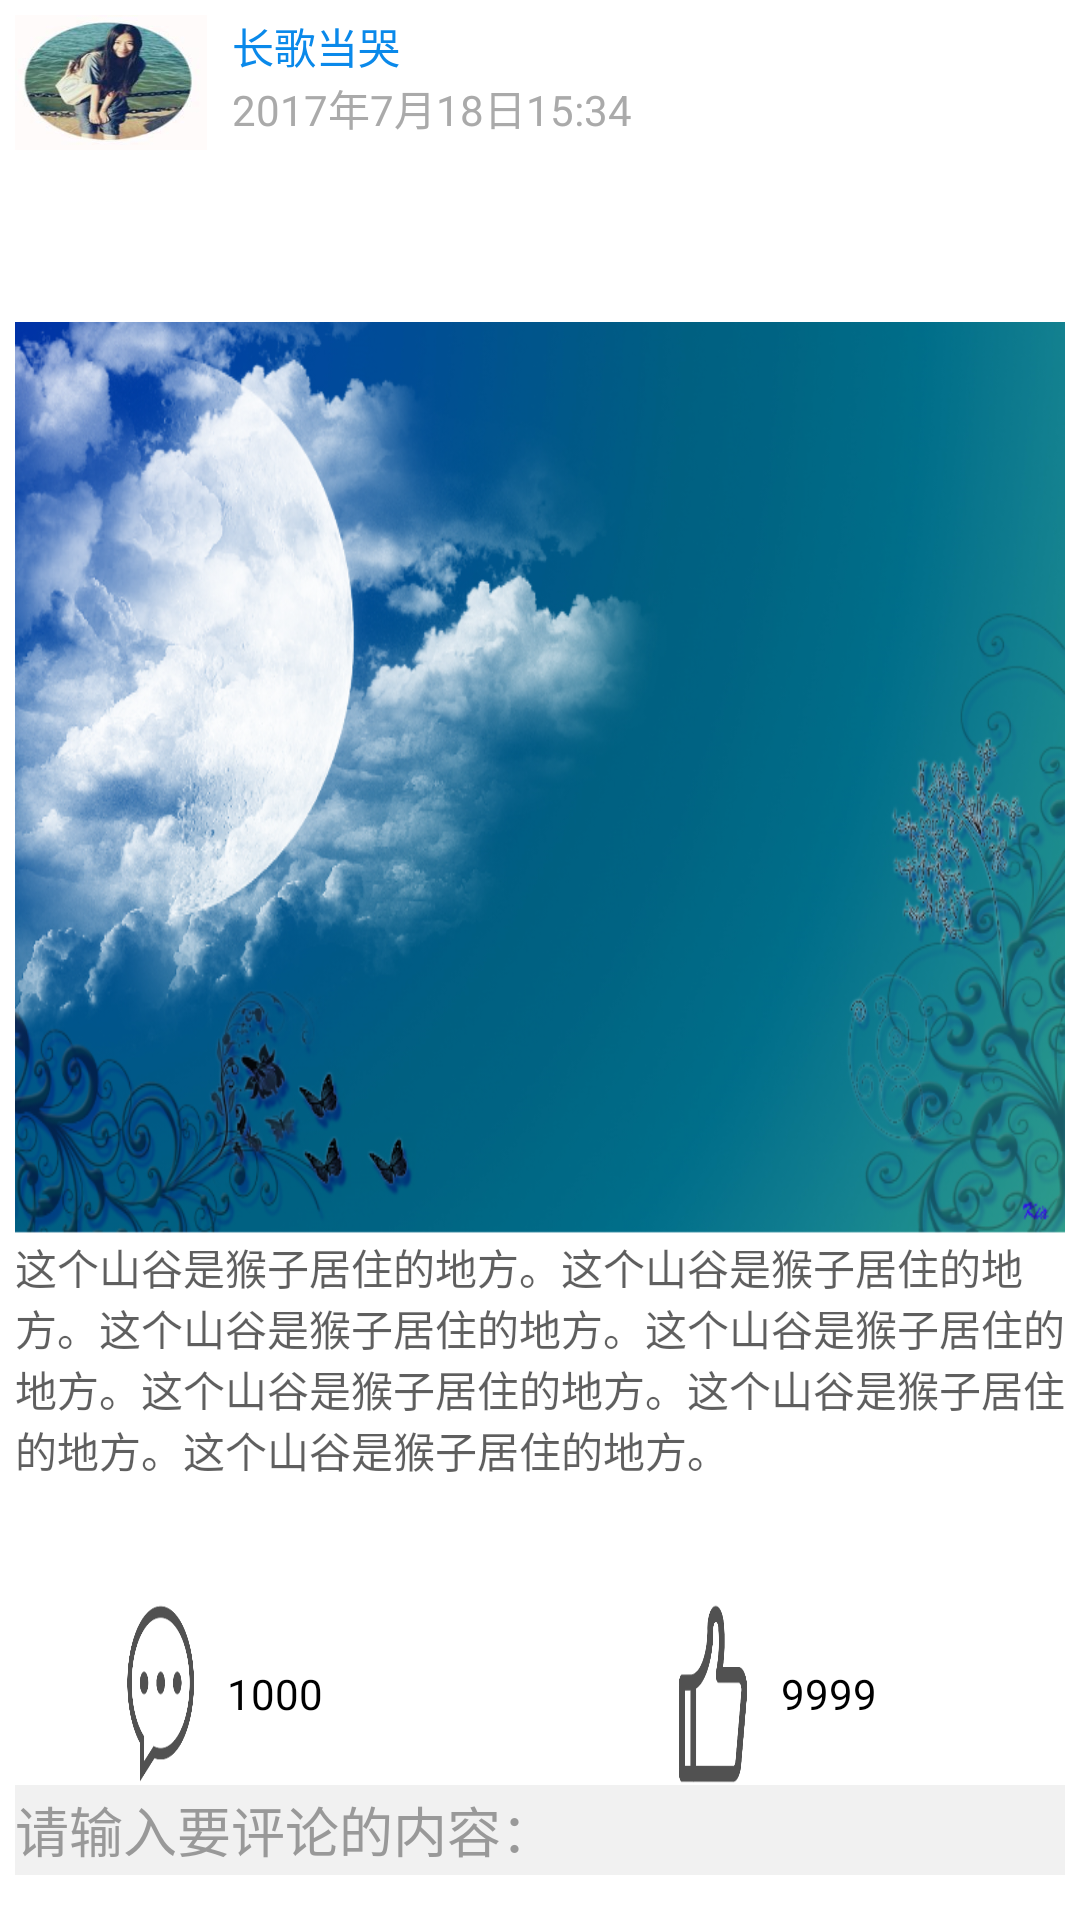

Icon click points for this 1080 x 1920 phone screenshot, format point (x, y):
comment: point (160, 1693)
testhead: point (108, 81)
